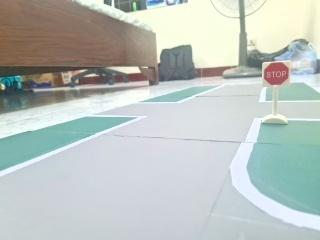stop: (259, 59, 293, 90)
